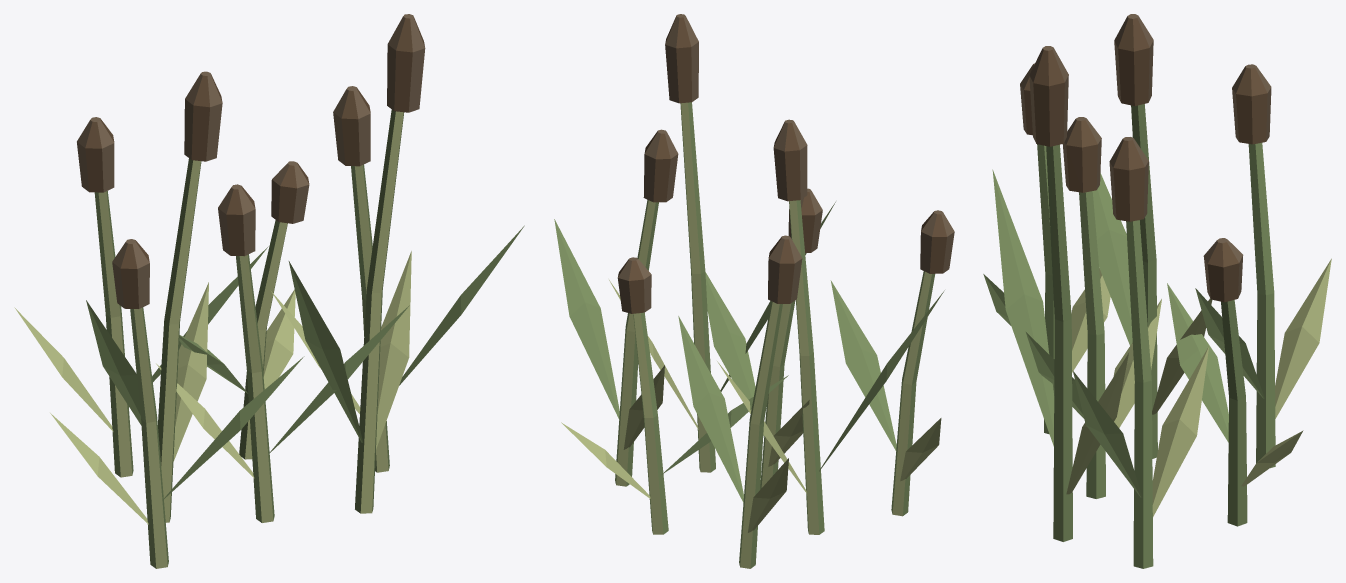
File: AE_Swamp_ReedCattails.fbx
3 views of the same model, side by side, from view 1: azimuth 30°, elevation 25°; view 2: azimuth 150°, elevation 25°; view 3: azimuth 270°, elevation 25° (orthographic). The views are drawn at different scales.
Visible parts, largest first — view 1: AE_Swamp_ReedCattails; view 2: AE_Swamp_ReedCattails; view 3: AE_Swamp_ReedCattails.
Part boxes in pixels (left/top/right/bottom): AE_Swamp_ReedCattails: left=14, top=14, right=524, bottom=568; AE_Swamp_ReedCattails: left=554, top=14, right=954, bottom=568; AE_Swamp_ReedCattails: left=983, top=14, right=1331, bottom=568.
Bounding box in the file's own units: 1.15 × 1.19 × 0.74.
